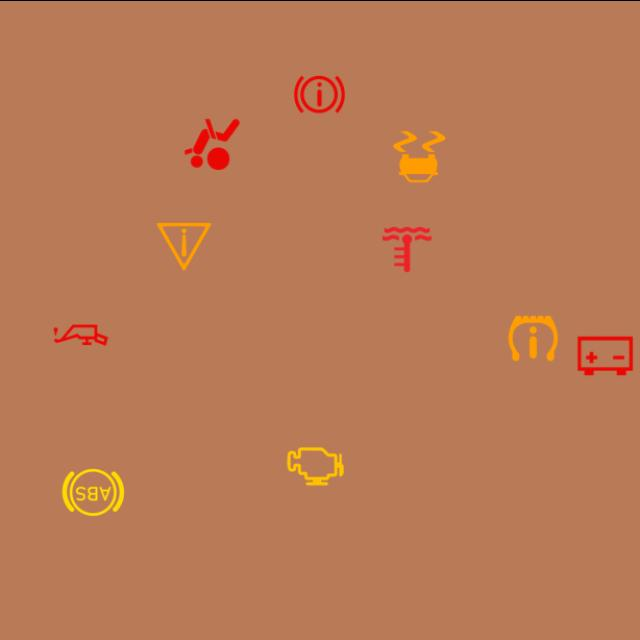Anti Lock Braking System: (59, 458, 128, 526)
Braking System Issue: (286, 59, 354, 128)
Charging System Issue: (571, 321, 639, 389)
Check Engine: (282, 432, 350, 499)
Electronic Stability Problem -ESP-: (386, 122, 454, 190)
Engine Overheating Warning Light: (373, 215, 441, 282)
Low Engine Oil Warning Light: (47, 300, 115, 368)
Low Tire Pressure Warning Light: (499, 303, 567, 371)
Master warning light: (150, 212, 218, 280)
SRS-Airbag: (178, 110, 246, 178)
